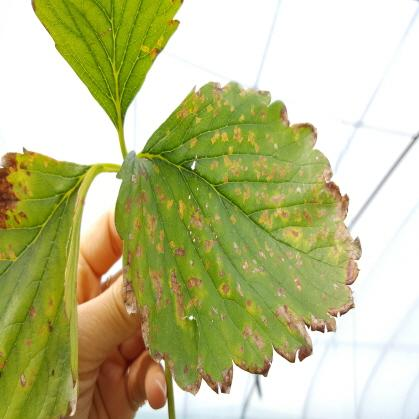Angular Leafspot: (114, 80, 363, 398), (0, 146, 100, 418), (30, 0, 183, 139)
